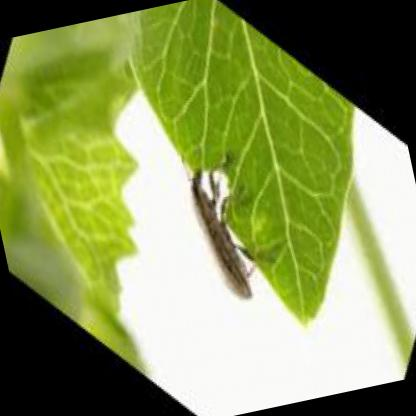ash weevil: (188, 169, 253, 301)
